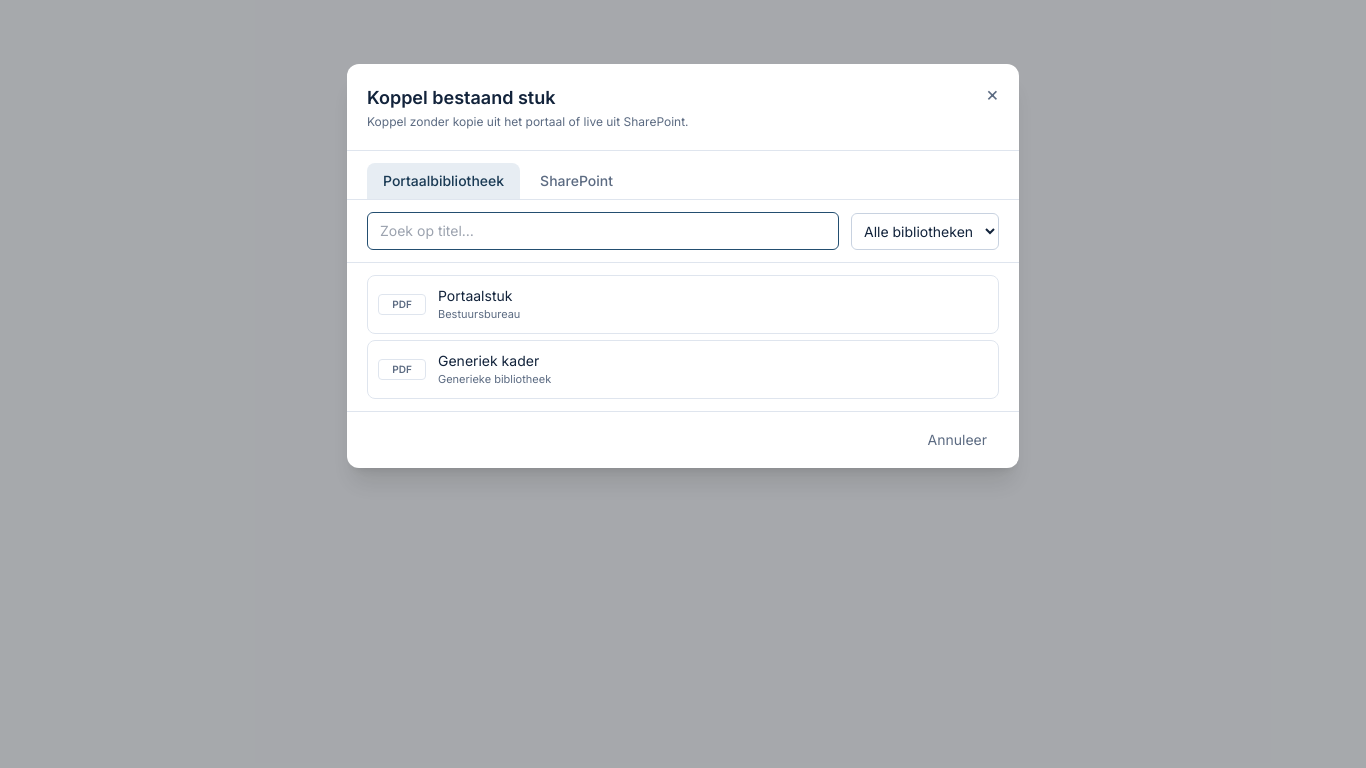
Scenario: AgendapuntBronPicker › houdt de portaalbibliotheek bruikbaar wanneer SharePoint laden faalt
The image size is (1366, 768).
Check: the text "Portaalstuk" is shown, box [438,286,520,306]
Check: the dropdown named "Filter bibliotheek" is shown, box [851,212,999,250]
Click the tab "SharePoint": (577, 181) [524,163,629,199]
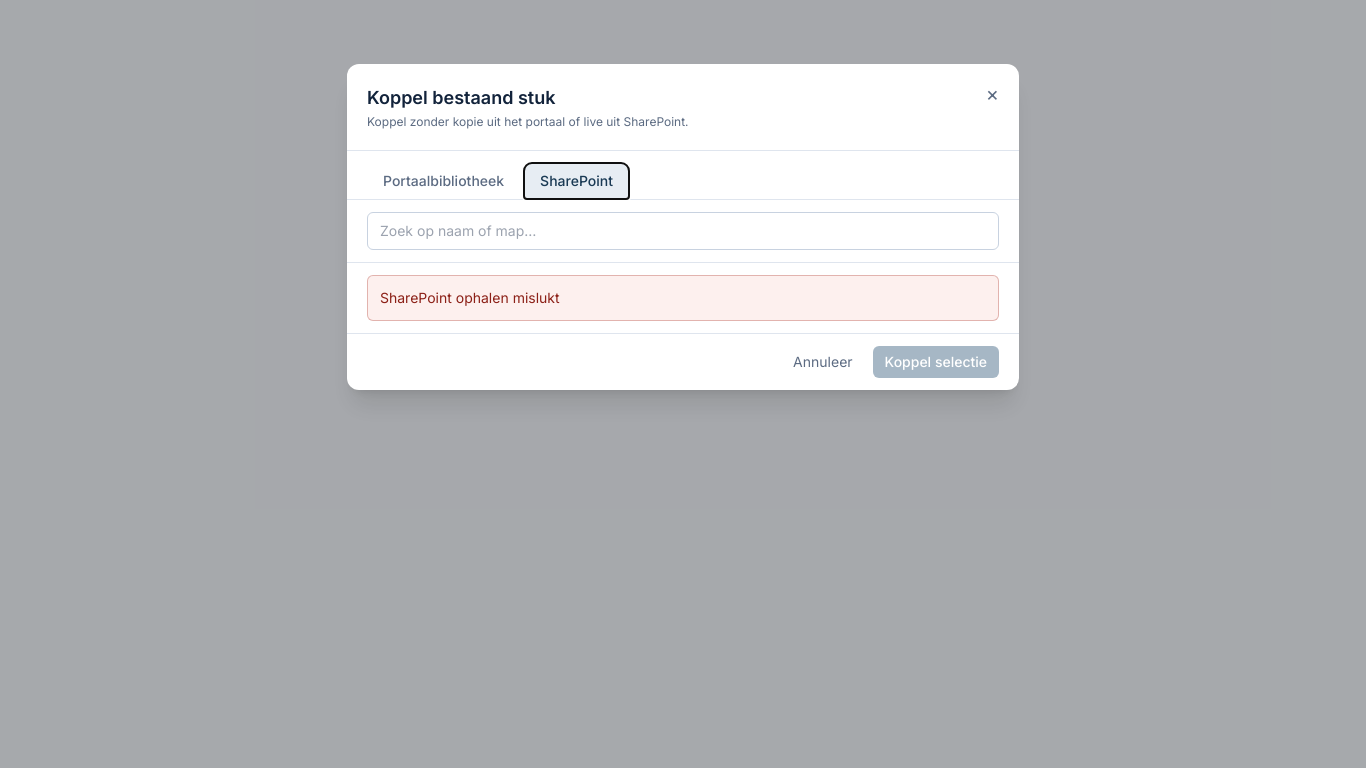
Check: the message reads "SharePoint ophalen mislukt", box [380,289,560,306]
Click the tab "Portaalbibliotheek": (444, 181) [367,163,520,199]
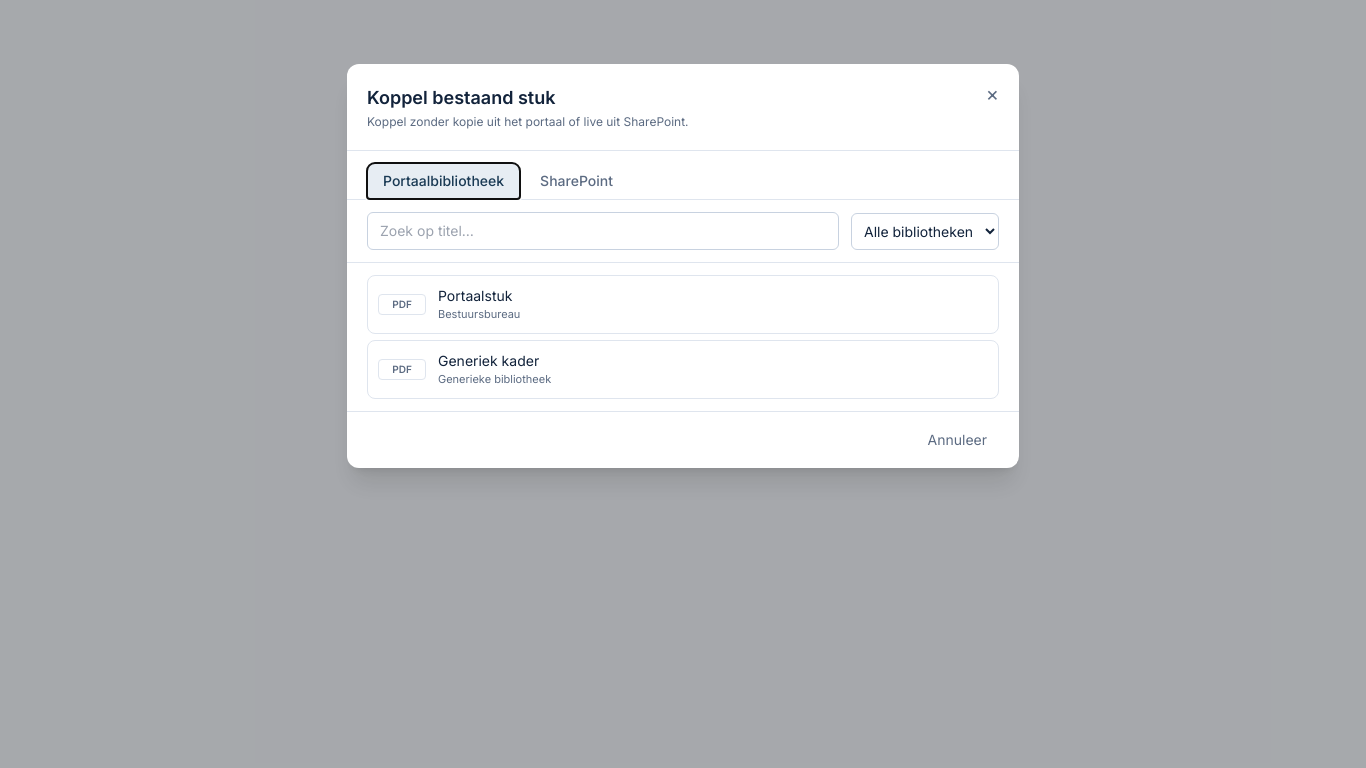
Check: the text "Portaalstuk" is shown, box [438,286,520,306]
